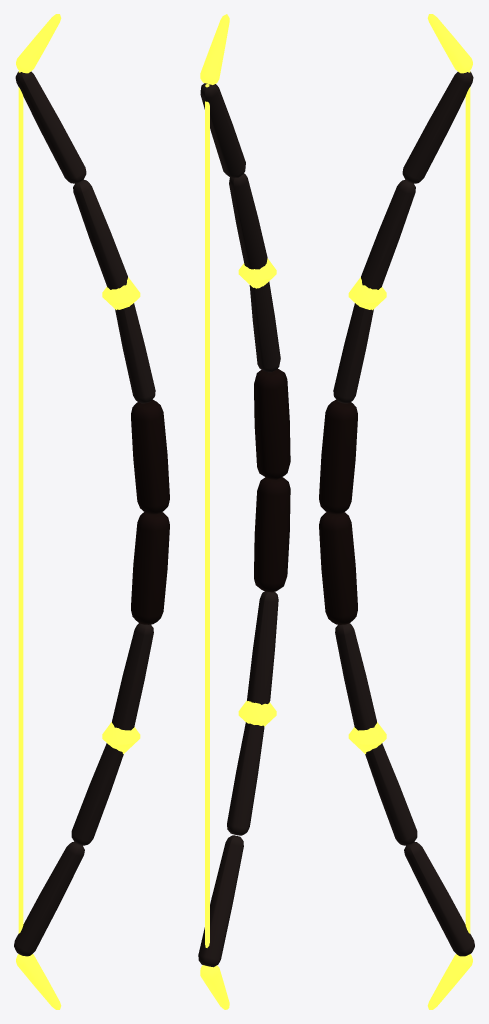
Rendered from Arma_ArcoSussurroBrasa.fbx.
The picture shows the model from 3 angles, left to right: view 1: azimuth 90°, elevation 25°; view 2: azimuth 150°, elevation 25°; view 3: azimuth 270°, elevation 25°; orthographic projection.
Parts seen in each view (by area): view 1: Piece; view 2: Piece; view 3: Piece.
Part boxes in pixels (x1,y1,x2,y2): Piece: [14, 14, 169, 1009]; Piece: [198, 14, 290, 1009]; Piece: [319, 14, 474, 1009].
Size of the model in its own units: 0.0579 by 1.68 by 0.2382.
